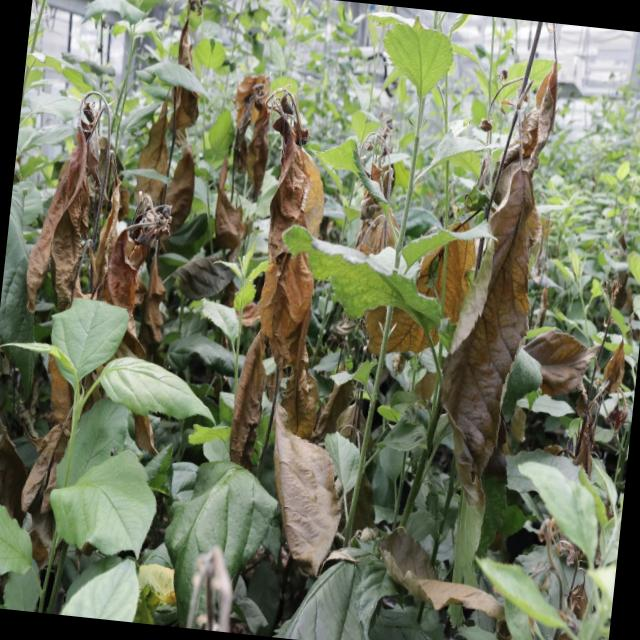-FireBlight-: (19, 0, 627, 640)
